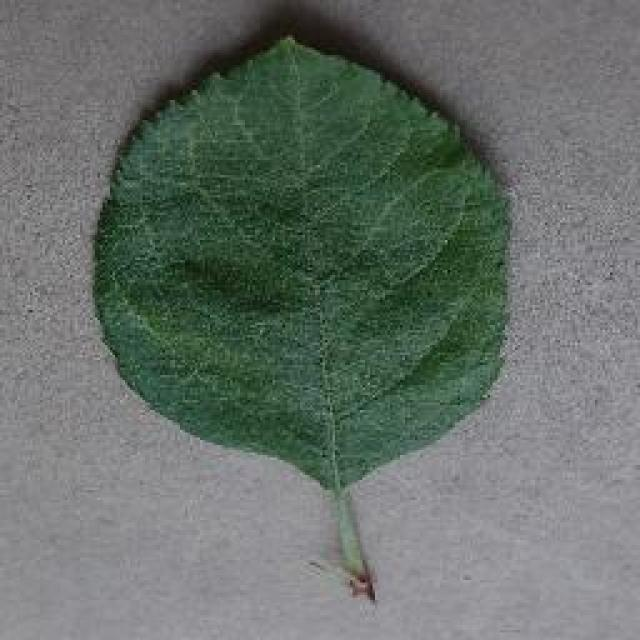apple healthy: (87, 30, 515, 600)
